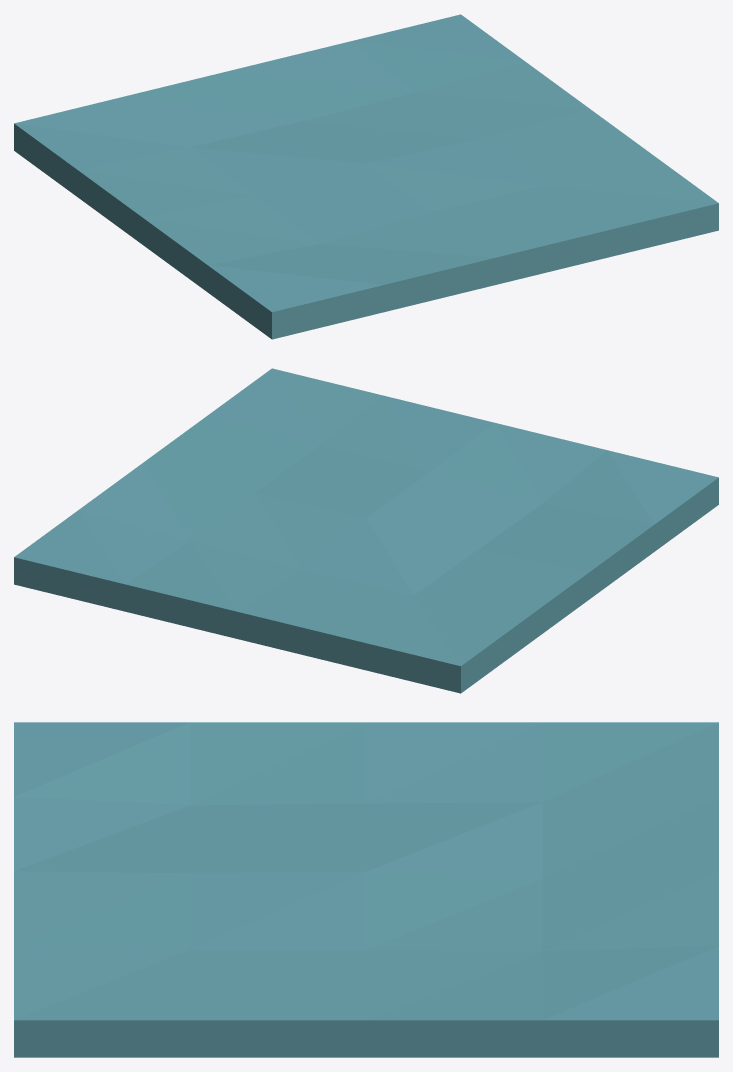
The model's file is lighthouse-and-rocky-coast-sea-water-plane-module-10e2d875__36610.glb.
3 renders of one model, top to bottom at view 1: azimuth 30°, elevation 25°; view 2: azimuth 150°, elevation 25°; view 3: azimuth 270°, elevation 25°, orthographic. The views are drawn at different scales.
Visible parts, largest first — view 1: sea-water-plane-module; view 2: sea-water-plane-module; view 3: sea-water-plane-module.
Boxes of the visible parts, left/top/right/bottom form: sea-water-plane-module: left=14, top=14, right=718, bottom=339; sea-water-plane-module: left=14, top=368, right=718, bottom=693; sea-water-plane-module: left=14, top=722, right=718, bottom=1057.
Size of the model in its own units: 6 by 0.3501 by 6.
